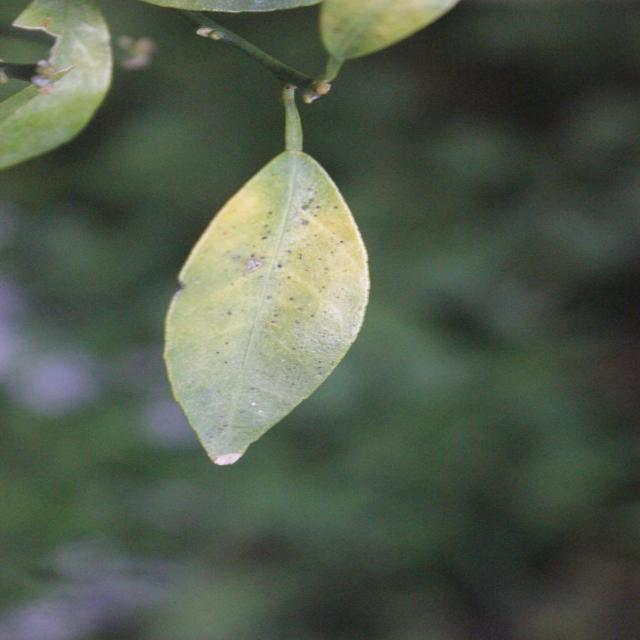blackspot: (150, 153, 386, 472)
